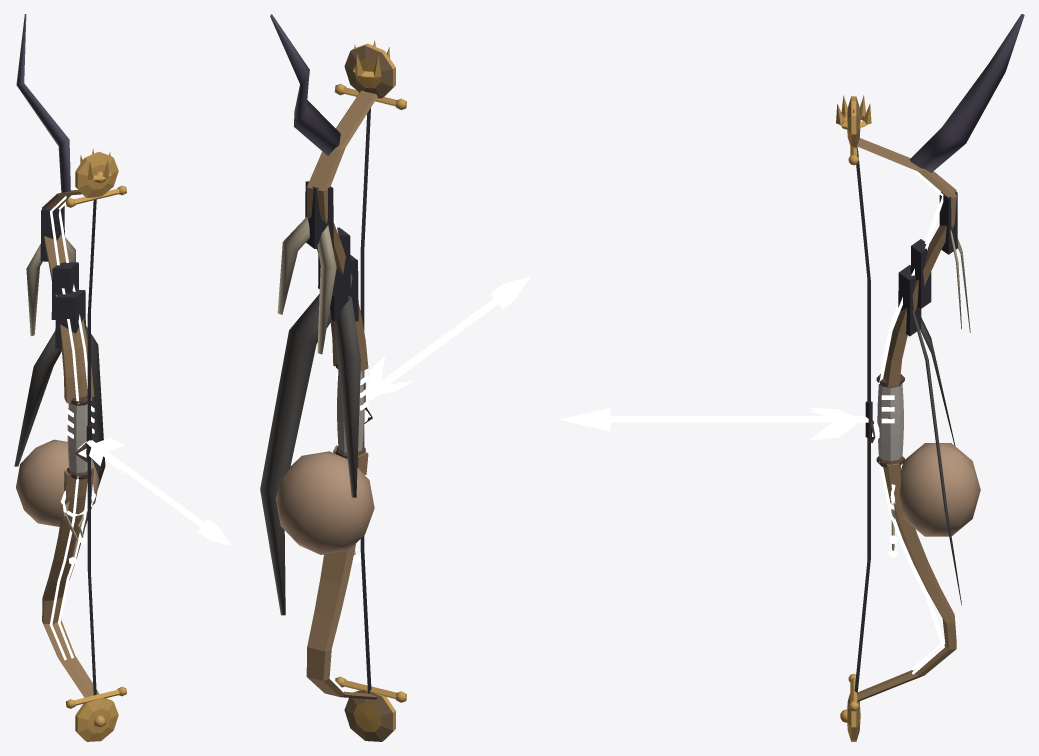
File: bow-mourning-bow.glb
The picture shows the model from 3 angles, left to right: view 1: azimuth 30°, elevation 25°; view 2: azimuth 150°, elevation 25°; view 3: azimuth 270°, elevation 25°; orthographic projection. The views are drawn at different scales.
Parts seen in each view (by area): view 1: bow-mourning-bow, pulse_vein, string, pulse_arrow; view 2: bow-mourning-bow, pulse_arrow, string; view 3: bow-mourning-bow, pulse_arrow, string, pulse_vein.
Boxes of the visible parts, box(x1,y1,x2,y2) form: bow-mourning-bow: box(14, 14, 126, 741); pulse_vein: box(49, 195, 91, 660); string: box(86, 199, 96, 695); pulse_arrow: box(86, 437, 231, 545); bow-mourning-bow: box(260, 14, 406, 741); pulse_arrow: box(365, 276, 530, 401); string: box(360, 108, 371, 693); bow-mourning-bow: box(836, 14, 1024, 741); pulse_arrow: box(559, 407, 868, 440); string: box(854, 147, 872, 695); pulse_vein: box(879, 169, 944, 674).
Bounding box in the file's own units: 0.2546 × 1.87 × 1.08.
